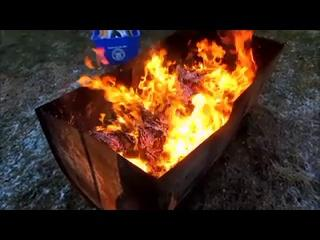fire: (92, 31, 258, 182)
